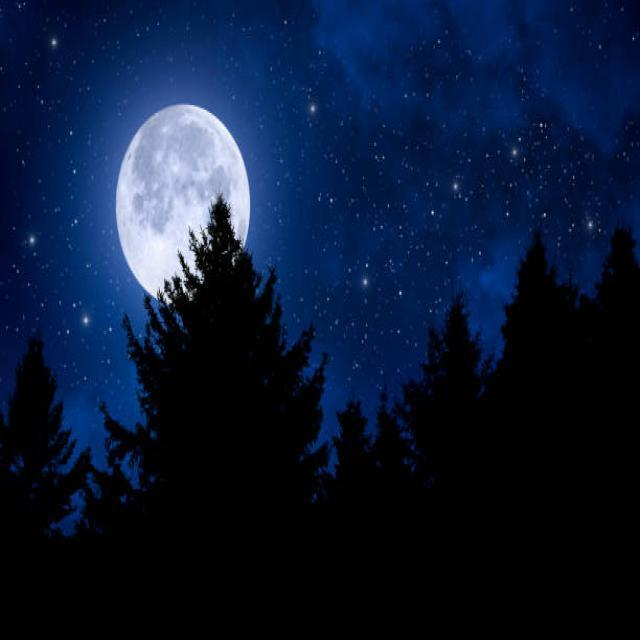moon: (115, 99, 252, 306)
